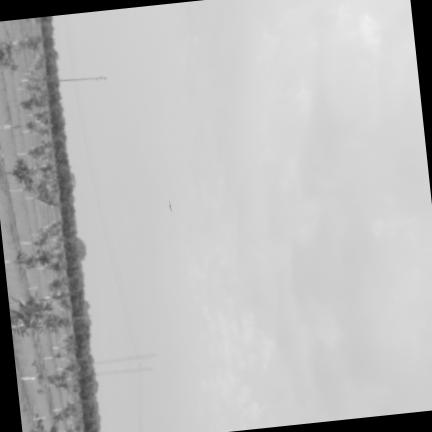Shahed: (168, 201, 171, 212)
